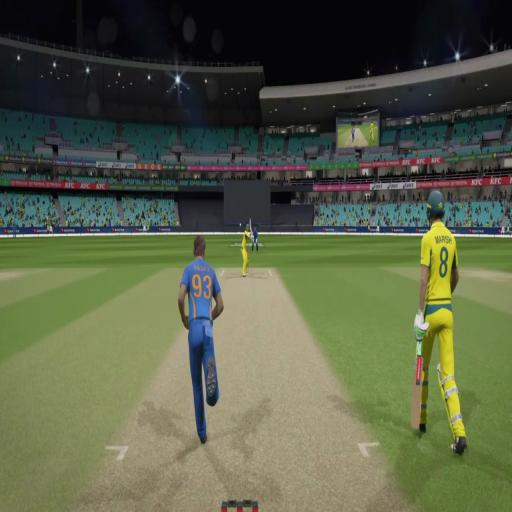ball: (237, 222, 241, 226)
